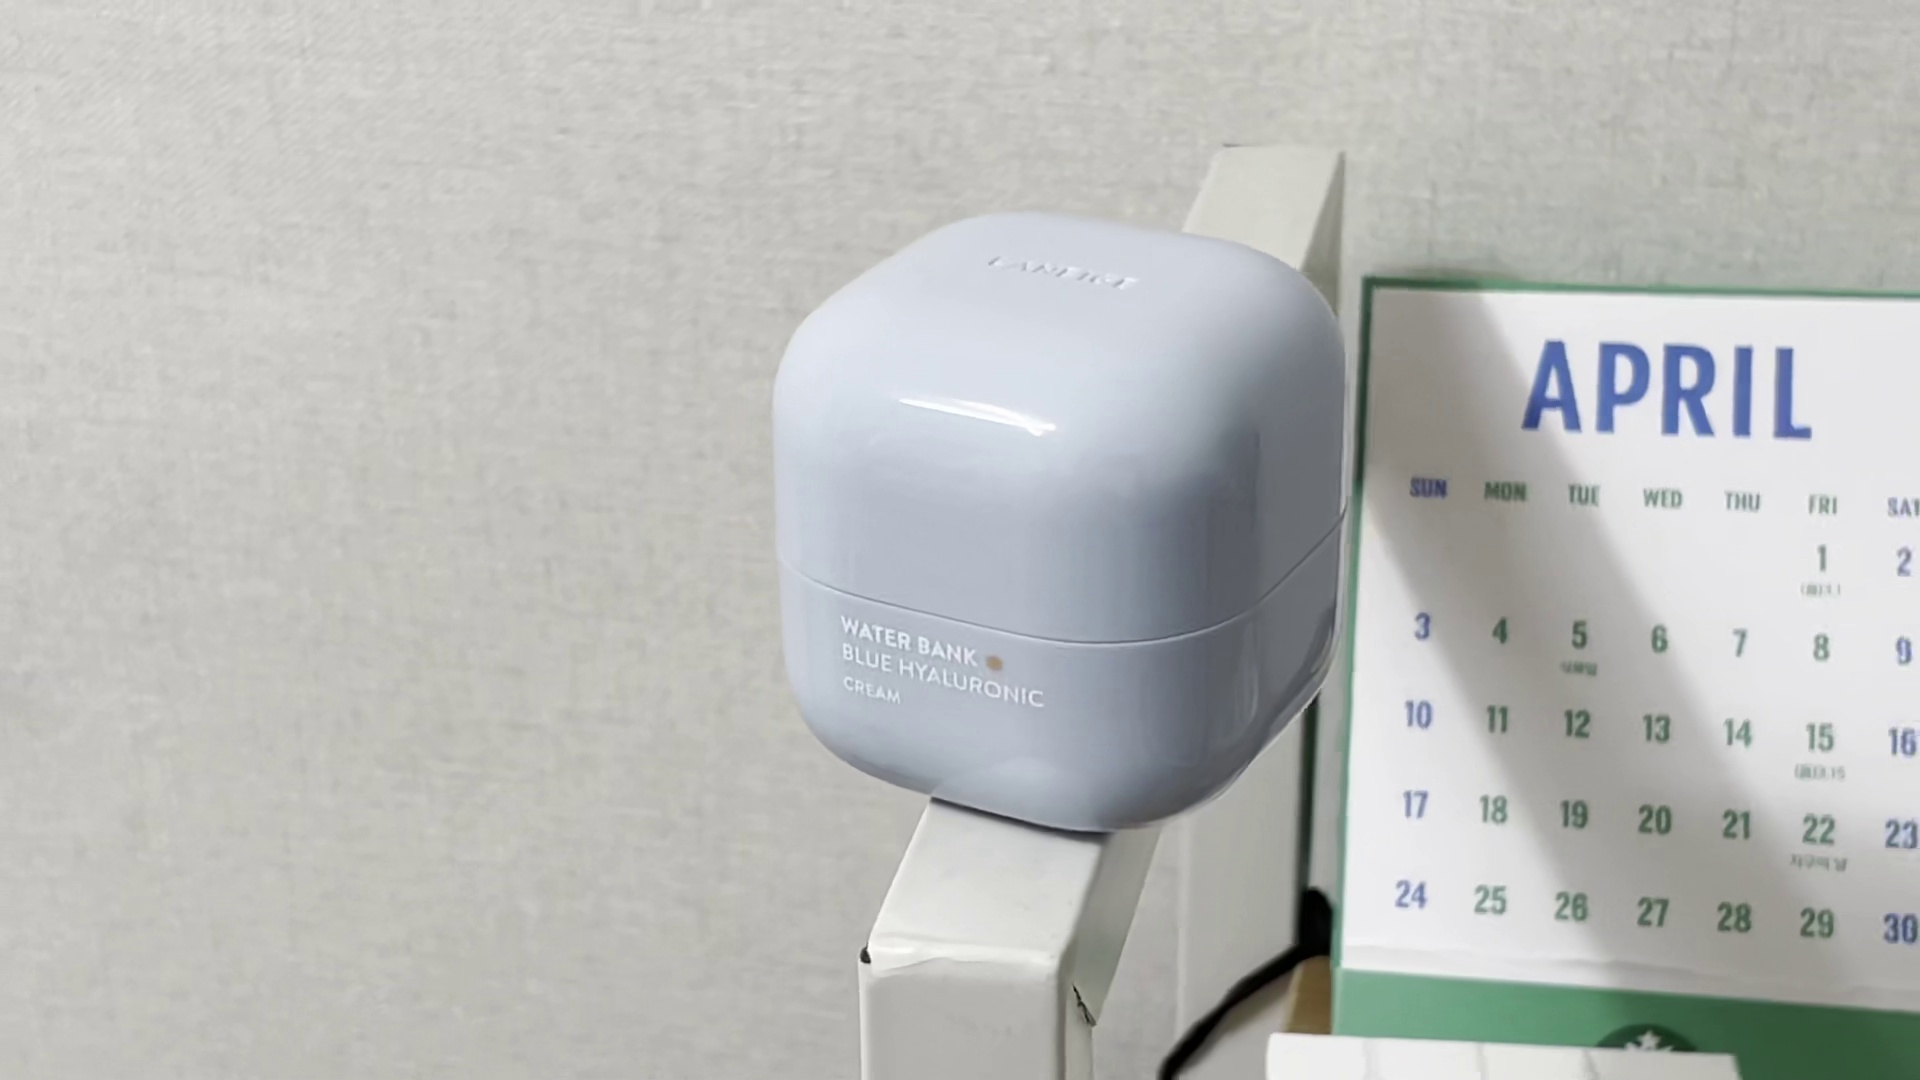cream: (775, 214, 1342, 837)
